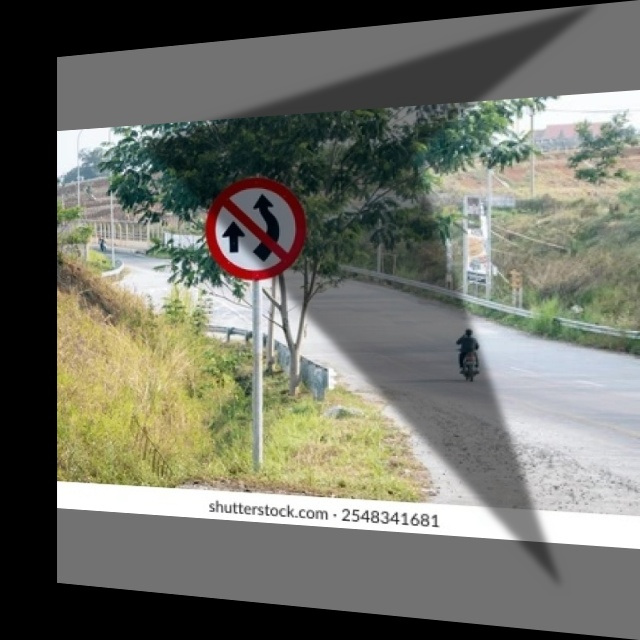Overtaking_Prohibited: (208, 173, 304, 280)
